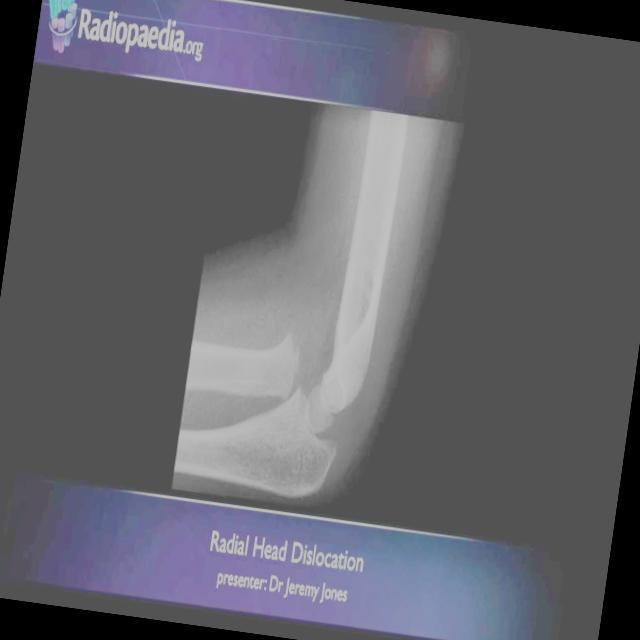Fracture Dislocation: (267, 333, 371, 460)
